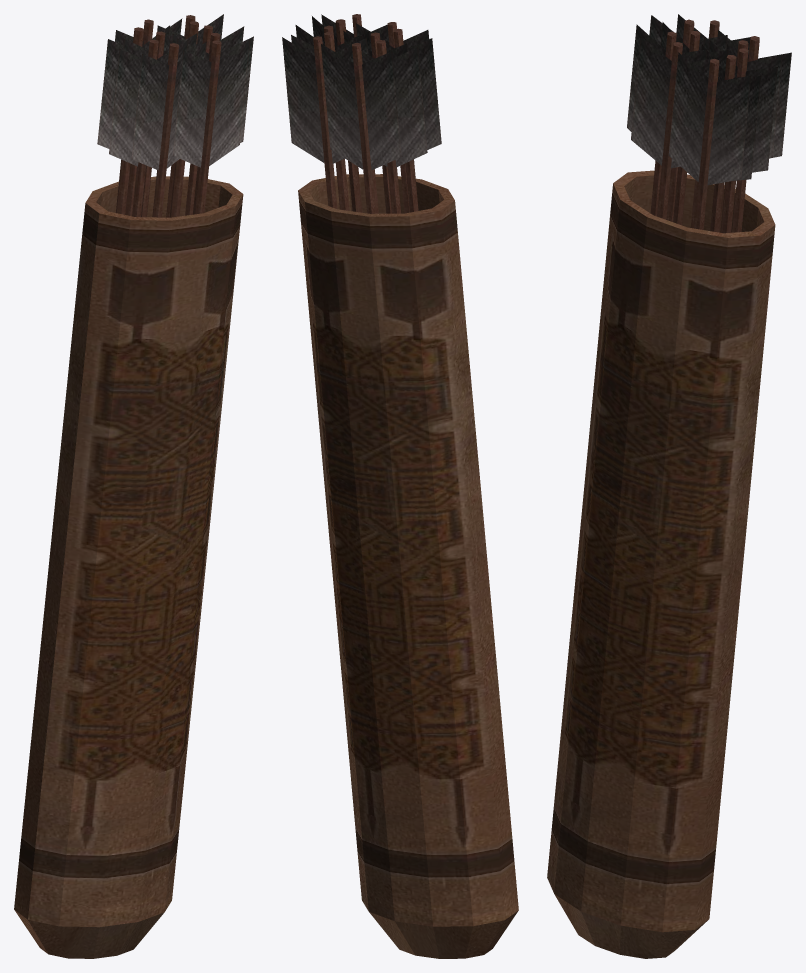
File: Quiver.glb
The picture shows the model from 3 angles, left to right: view 1: azimuth 30°, elevation 25°; view 2: azimuth 150°, elevation 25°; view 3: azimuth 330°, elevation 25°; orthographic projection. The views are drawn at different scales.
Visible parts, largest first — view 1: quiver, Circle.008, Circle.005, Circle.004, Circle.007, Circle.011, Circle.010, Circle.006, Circle.009, Circle.012, Circle.014; view 2: quiver, Circle.012, Circle.014, Circle.007, Circle.004, Circle.009, Circle.011, Circle.005, Circle.006, Circle.008; view 3: quiver, Circle.008, Circle.005, Circle.010, Circle.009, Circle.014, Circle.004, Circle.006, Circle.007, Circle.011, Circle.012.
Boxes of the visible parts, <box> form: quiver: <box>14,176,243,958</box>; Circle.008: <box>172,40,250,214</box>; Circle.005: <box>131,41,206,217</box>; Circle.004: <box>109,39,188,217</box>; Circle.007: <box>97,25,169,214</box>; Circle.011: <box>163,18,223,217</box>; Circle.010: <box>172,25,244,215</box>; Circle.006: <box>123,31,197,217</box>; Circle.009: <box>177,33,253,214</box>; Circle.012: <box>115,18,182,216</box>; Circle.014: <box>157,14,223,217</box>; quiver: <box>298,174,518,958</box>; Circle.012: <box>321,43,401,213</box>; Circle.014: <box>282,36,353,209</box>; Circle.007: <box>344,40,427,213</box>; Circle.004: <box>363,28,441,212</box>; Circle.009: <box>312,16,370,212</box>; Circle.011: <box>291,31,368,210</box>; Circle.005: <box>356,22,429,213</box>; Circle.006: <box>343,31,407,213</box>; Circle.008: <box>321,14,388,213</box>; quiver: <box>547,170,775,958</box>; Circle.008: <box>668,52,750,229</box>; Circle.005: <box>631,36,715,219</box>; Circle.010: <box>708,40,777,233</box>; Circle.009: <box>701,44,760,232</box>; Circle.014: <box>717,30,791,232</box>; Circle.004: <box>627,24,707,216</box>; Circle.006: <box>660,22,728,225</box>; Circle.007: <box>649,15,727,221</box>; Circle.011: <box>703,37,782,232</box>; Circle.012: <box>676,14,750,228</box>.
Bounding box in the file's own units: 0.2295 × 0.9 × 0.1015.
1 material, 1 textured.
